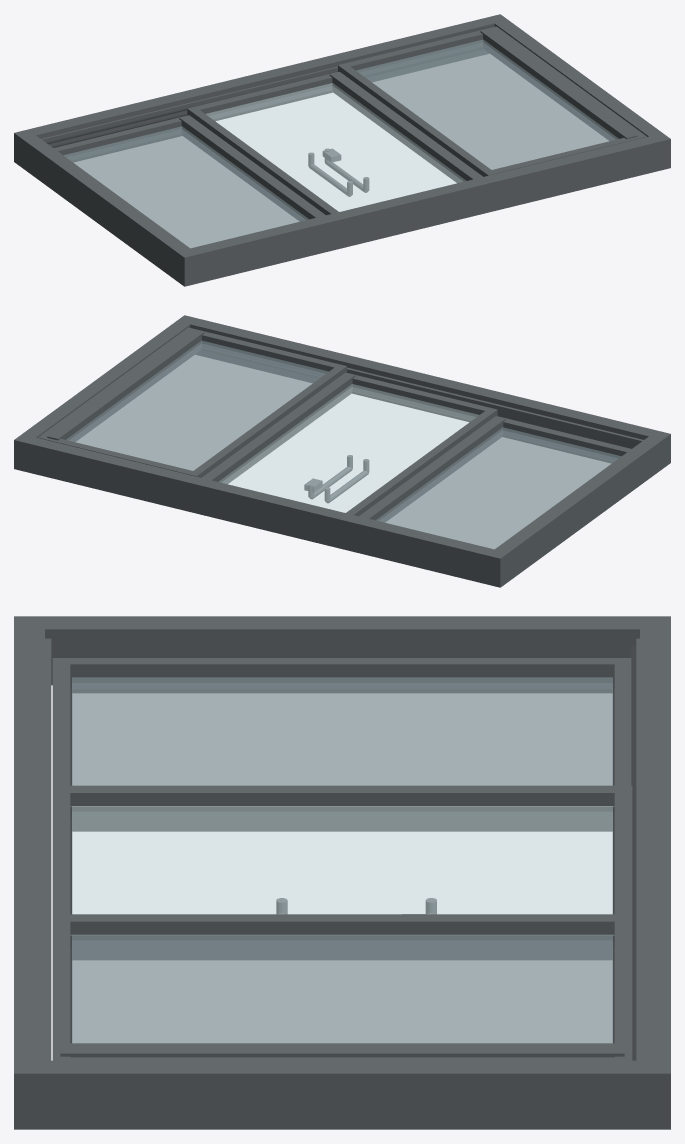
File: black-aluminum-sliding-door.glb
The picture shows the model from 3 angles, top to bottom: view 1: azimuth 30°, elevation 25°; view 2: azimuth 150°, elevation 25°; view 3: azimuth 270°, elevation 25°; orthographic projection. The views are drawn at different scales.
Visible parts, largest first — view 1: outer-top, glass2, glass1, glass0, outer-bottom, outer-left, meeting2, meeting1, meeting0, outer-right, panel1-bottom, panel2-bottom (+7 smaller); view 2: outer-bottom, glass2, glass1, glass0, outer-top, outer-left, meeting2, meeting1, meeting0, head-track-base, outer-right, panel1-top (+6 smaller); view 3: glass2, glass0, glass1, outer-right, outer-left, panel0-left, outer-top, outer-bottom, panel0-right, panel1-right, panel1-left, panel2-left (+12 smaller).
Part boxes in pixels (bbox=[...]): outer-top: bbox=[176, 133, 670, 286]; glass2: bbox=[356, 39, 618, 169]; glass1: bbox=[206, 83, 465, 211]; glass0: bbox=[63, 126, 308, 248]; outer-bottom: bbox=[14, 14, 507, 167]; outer-left: bbox=[22, 135, 189, 280]; meeting2: bbox=[480, 28, 637, 140]; meeting1: bbox=[329, 72, 482, 183]; meeting0: bbox=[179, 115, 325, 221]; outer-right: bbox=[494, 20, 662, 136]; panel1-bottom: bbox=[187, 72, 337, 118]; panel2-bottom: bbox=[338, 26, 500, 75]; outer-bottom: bbox=[14, 434, 508, 587]; glass2: bbox=[66, 340, 328, 470]; glass1: bbox=[219, 384, 478, 512]; glass0: bbox=[376, 427, 621, 549]; outer-top: bbox=[177, 315, 670, 468]; outer-left: bbox=[495, 436, 662, 581]; meeting2: bbox=[47, 329, 204, 441]; meeting1: bbox=[202, 373, 355, 484]; meeting0: bbox=[359, 416, 505, 522]; head-track-base: bbox=[199, 350, 643, 448]; outer-right: bbox=[22, 321, 190, 437]; panel1-top: bbox=[347, 373, 497, 419]; glass2: bbox=[72, 934, 612, 1043]; glass0: bbox=[72, 677, 612, 785]; glass1: bbox=[72, 806, 612, 914]; outer-right: bbox=[45, 1060, 639, 1129]; outer-left: bbox=[45, 616, 639, 685]; panel0-left: bbox=[70, 658, 614, 687]; outer-top: bbox=[14, 616, 44, 1129]; outer-bottom: bbox=[640, 616, 670, 1129]; panel0-right: bbox=[70, 806, 614, 831]; panel1-right: bbox=[70, 934, 614, 959]; panel1-left: bbox=[70, 785, 614, 805]; panel2-left: bbox=[70, 914, 614, 934].
Size of the model in its own units: 4.2 by 0.392 by 2.55.
